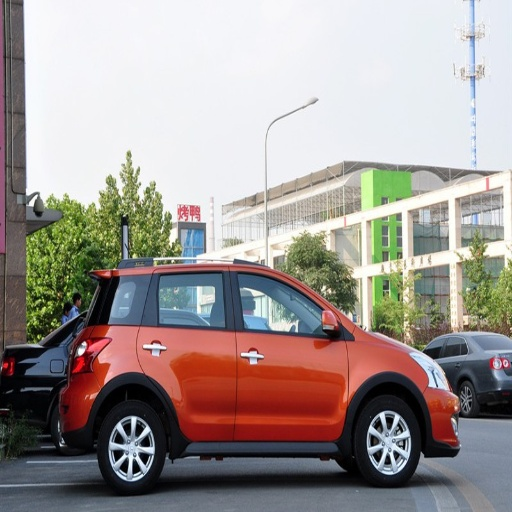back_right_door: (137, 267, 237, 437)
front_right_door: (231, 267, 348, 438)
